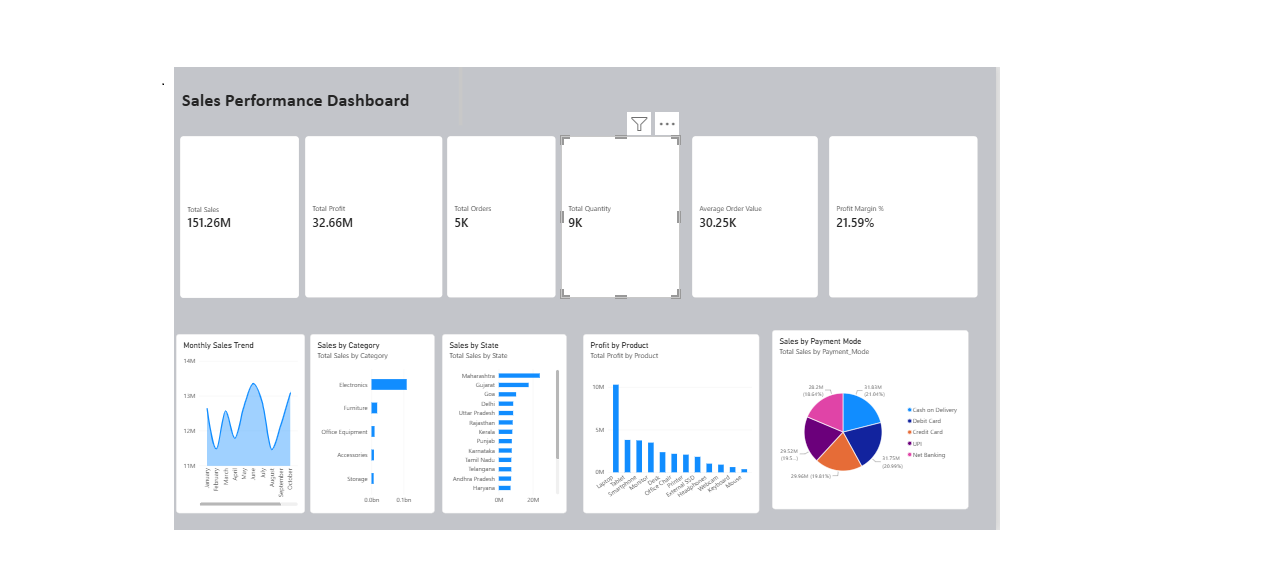

This screenshot's page, from the dashboard's own definition file:
{"tool":"powerbi","page":{"name":"Page 1","canvas":[1920,1080],"ordinal":0},"visuals":[{"type":"cardVisual","fields":{"Data":["Sales.Total Sales"]},"box":[23.3,163.3,277.4,377.4],"z":0},{"type":"cardVisual","fields":{"Data":["Sales.Total Profit","Sales.Total Profit"]},"box":[313.3,163.3,320,376.7],"z":1000},{"type":"cardVisual","fields":{"Data":["Sales.Total Orders","Sales.Total Orders","Sales.Total Orders","Sales.Total Quantity","Sales.Total Quantity"]},"box":[643.3,163.3,253.3,376.7],"z":2000},{"type":"cardVisual","fields":{"Data":["Sales.Total Quantity"]},"box":[910,163.3,276.7,376.7],"z":3000},{"type":"cardVisual","fields":{"Data":["Sales.Average Order Value"]},"box":[1213.3,163.3,293.3,376.7],"z":4000},{"type":"cardVisual","fields":{"Data":["Sales.Profit Margin %"]},"box":[1533.3,163.3,346.7,376.7],"z":5000},{"type":"lineChart","title":"Monthly Sales Trend","fields":{"Category":["Sales.Order_Date.Variation.Date Hierarchy.Month"],"Y":["Sales.Total Sales"]},"box":[13.3,623.3,300,416.7],"z":6000},{"type":"clusteredBarChart","title":"Sales by Category","fields":{"Category":["Sales.Category"],"Y":["Sales.Total Sales"]},"box":[326.7,623.3,290,416.7],"z":7000},{"type":"clusteredColumnChart","title":"Profit by Product","fields":{"Category":["Sales.Product"],"Y":["Sales.Total Profit"]},"box":[960,623.3,410,416.7],"z":8000},{"type":"pieChart","title":"Sales by Payment Mode","fields":{"Category":["Sales.Payment_Mode"],"Y":["Sales.Total Sales"]},"box":[1400,613.3,456.7,416.7],"z":9000},{"type":"textbox","box":[28.9,0,652.2,140],"z":9500},{"type":"clusteredBarChart","title":"Sales by State","fields":{"Category":["Sales.State"],"Y":["Sales.Total Sales"]},"box":[633.3,623.3,290,416.7],"z":10000}]}

Visuals, with their boxes on the page's 1920x1080 design canvas (x1, y1, x2, y2). These are canvas units, not pixel positions in the 1284x567 screenshot, which may show the page scaled, cropped or inside an application window:
cardVisual - Sales.Total Sales: locate(23, 163, 301, 541)
cardVisual - Sales.Total Profit x Sales.Total Profit: locate(313, 163, 633, 540)
cardVisual - Sales.Total Orders x Sales.Total Orders: locate(643, 163, 897, 540)
cardVisual - Sales.Total Quantity: locate(910, 163, 1187, 540)
cardVisual - Sales.Average Order Value: locate(1213, 163, 1507, 540)
cardVisual - Sales.Profit Margin %: locate(1533, 163, 1880, 540)
"Monthly Sales Trend" lineChart: locate(13, 623, 313, 1040)
"Sales by Category" clusteredBarChart: locate(327, 623, 617, 1040)
"Profit by Product" clusteredColumnChart: locate(960, 623, 1370, 1040)
"Sales by Payment Mode" pieChart: locate(1400, 613, 1857, 1030)
textbox: locate(29, 0, 681, 140)
"Sales by State" clusteredBarChart: locate(633, 623, 923, 1040)
